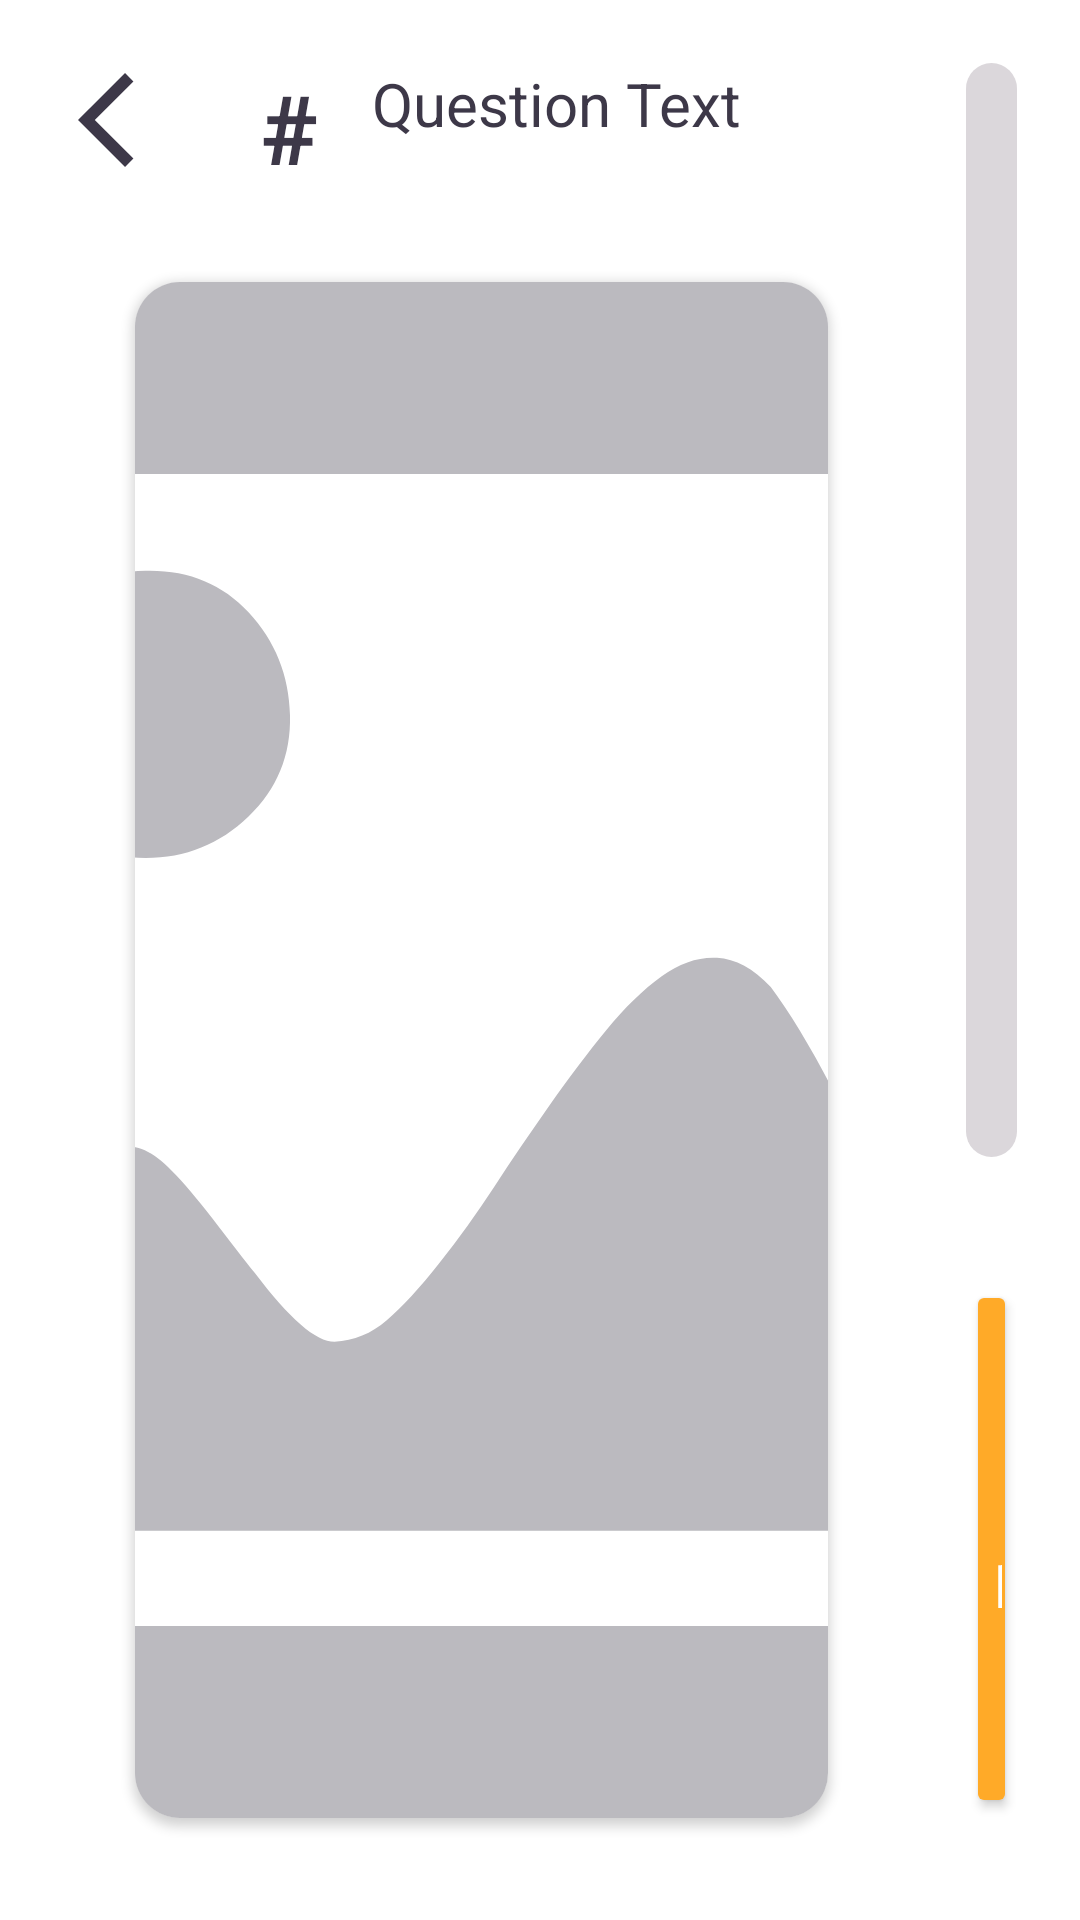

Named icons in this screenshot (1080×1920) and their centers, [x,y]:
arrow back: [106,120]
